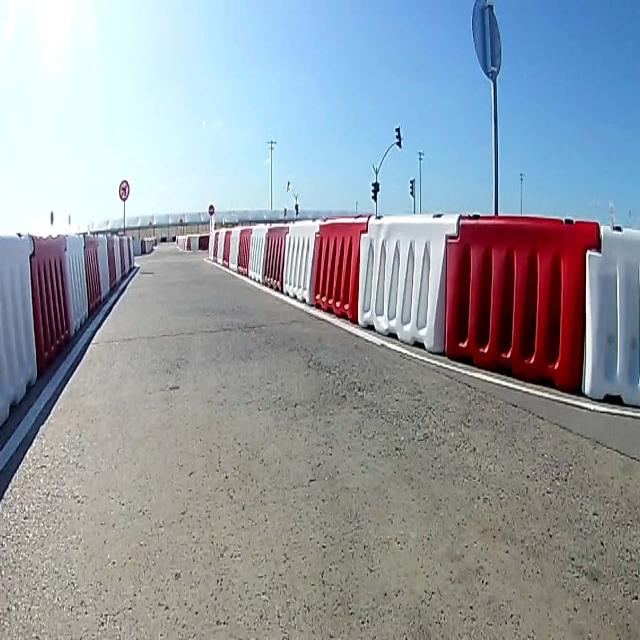soladonulmez: (120, 179, 130, 204)
